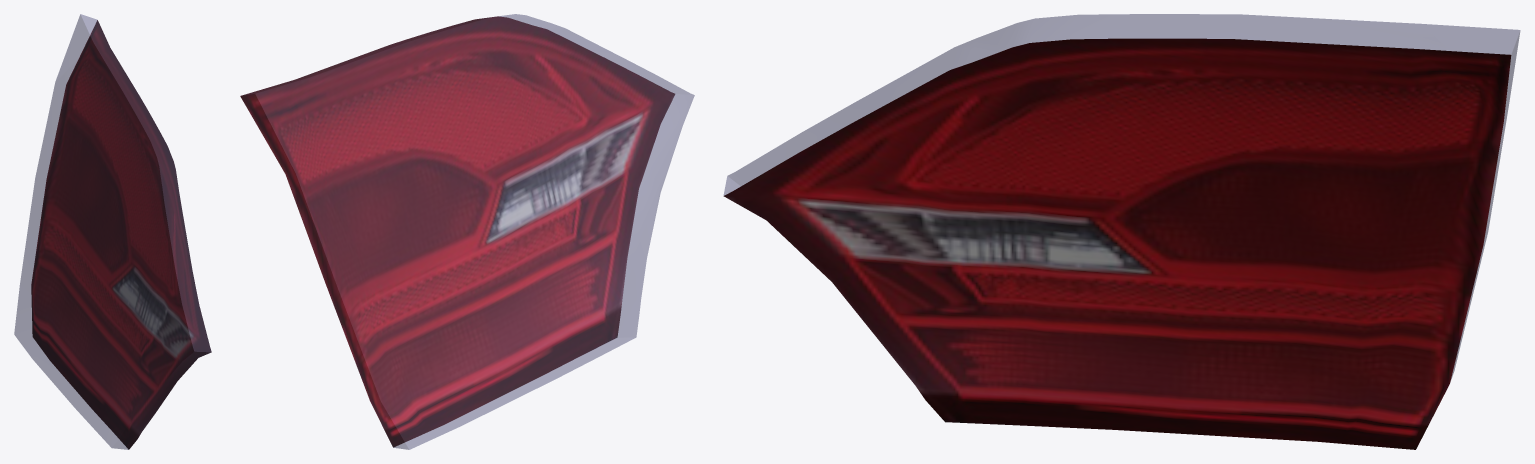
The picture shows the model from 3 angles, left to right: view 1: azimuth 30°, elevation 25°; view 2: azimuth 150°, elevation 25°; view 3: azimuth 270°, elevation 25°; orthographic projection. The views are drawn at different scales.
Parts seen in each view (by area): view 1: X6166_541D_L_X6166_541D_L_2_DTaSI, X6166_541D_L_1_N_X6166_541D_L; view 2: X6166_541D_L_X6166_541D_L_2_DTaSI, X6166_541D_L_1_N_X6166_541D_L; view 3: X6166_541D_L_1_N_X6166_541D_L, X6166_541D_L_X6166_541D_L_2_DTaSI.
Part boxes in pixels (x1,y1,x2,y2): X6166_541D_L_X6166_541D_L_2_DTaSI: (14, 14, 211, 449); X6166_541D_L_1_N_X6166_541D_L: (31, 20, 211, 449); X6166_541D_L_X6166_541D_L_2_DTaSI: (240, 14, 694, 449); X6166_541D_L_1_N_X6166_541D_L: (240, 16, 674, 447); X6166_541D_L_1_N_X6166_541D_L: (723, 38, 1511, 449); X6166_541D_L_X6166_541D_L_2_DTaSI: (723, 14, 1520, 381).
Bounding box in the file's own units: 10.05 × 18.39 × 27.03.
